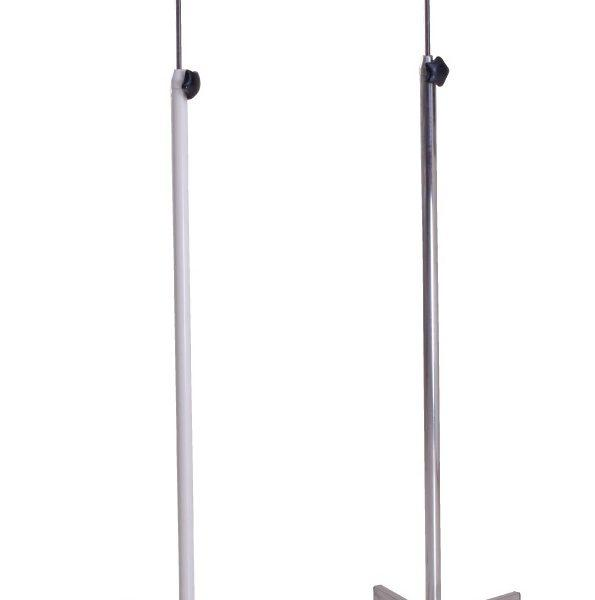Saline Stand: (379, 0, 519, 600), (127, 6, 255, 600)
